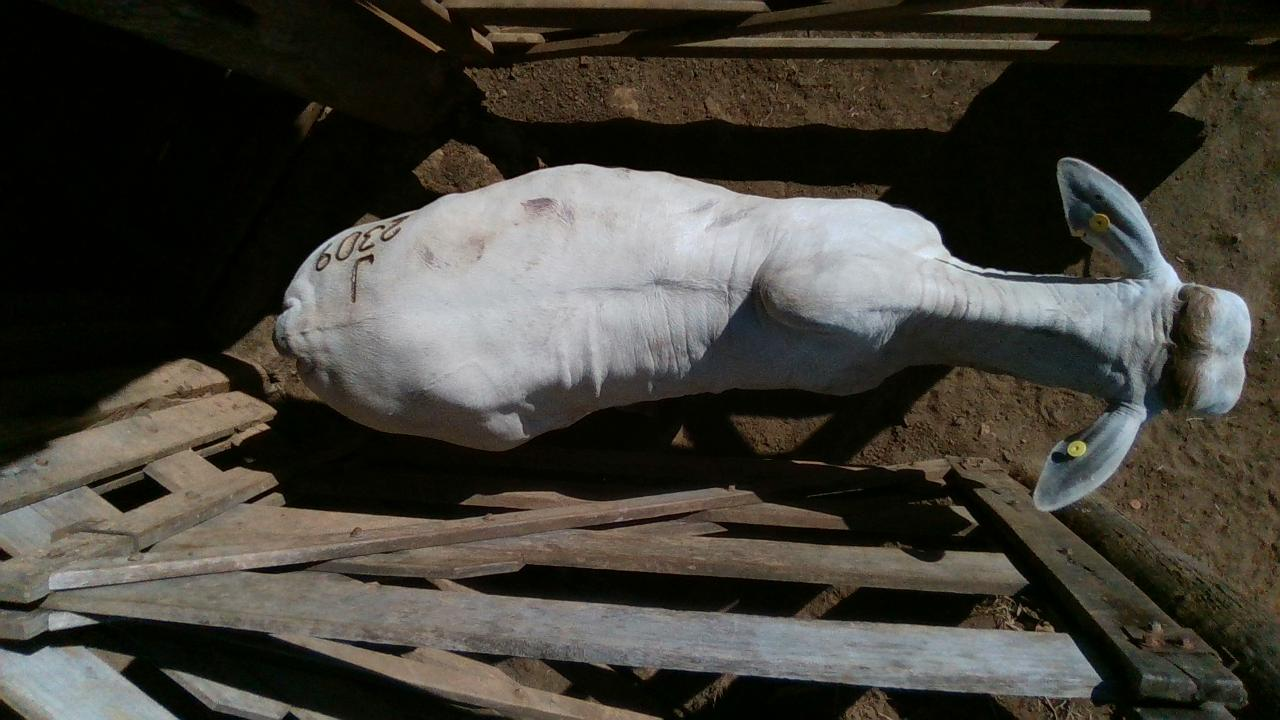cattle: (271, 155, 1252, 512)
